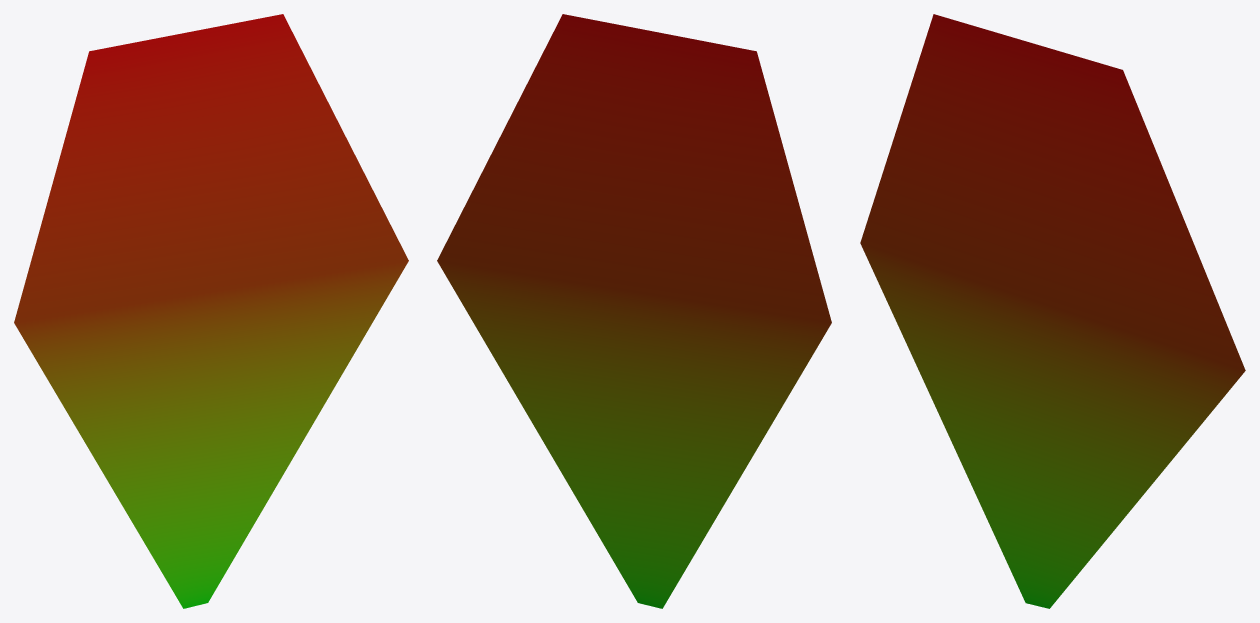
The model's file is Var17_LOD4.fbx.
The picture shows the model from 3 angles, left to right: view 1: azimuth 30°, elevation 25°; view 2: azimuth 150°, elevation 25°; view 3: azimuth 330°, elevation 25°; orthographic projection. The views are drawn at different scales.
Visible parts, largest first — view 1: _uneg_Var17_LOD4; view 2: _uneg_Var17_LOD4; view 3: _uneg_Var17_LOD4.
Boxes of the visible parts, box(x1,y1,x2,y2) form: _uneg_Var17_LOD4: box(14, 14, 408, 608); _uneg_Var17_LOD4: box(437, 14, 831, 608); _uneg_Var17_LOD4: box(860, 14, 1245, 608).
Bounding box in the file's own units: 11.05 × 15.52 × 6.78e-07.
